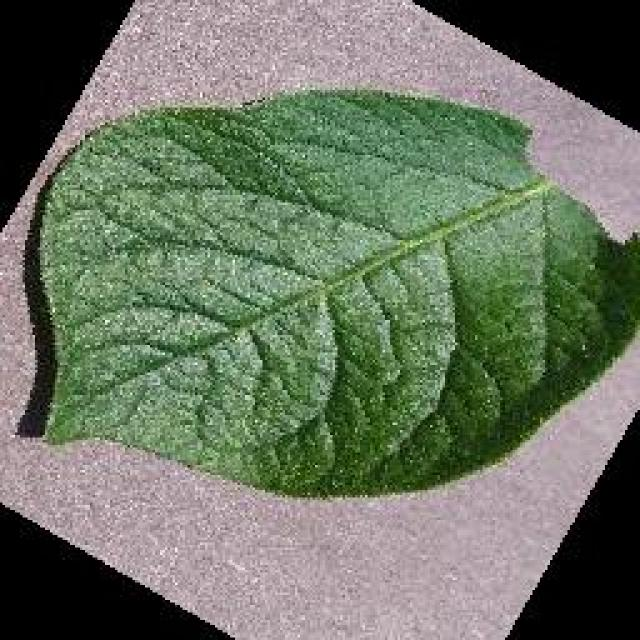Potato___healthy: (40, 90, 638, 504)
